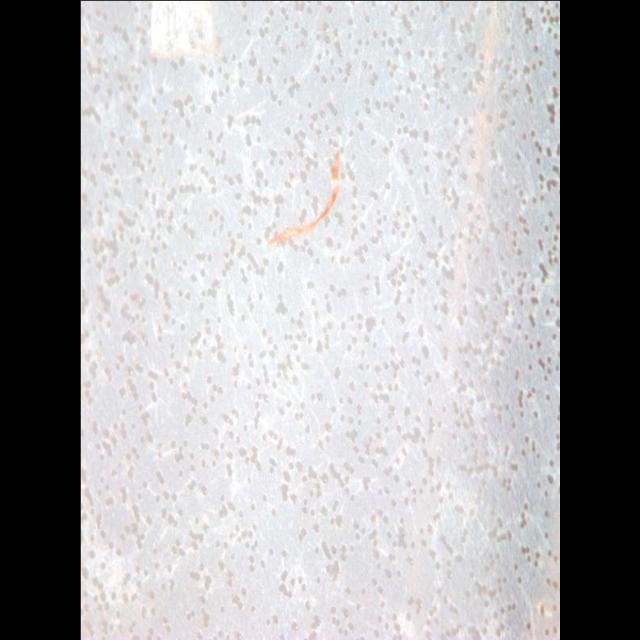Fibre: (264, 146, 342, 256)
